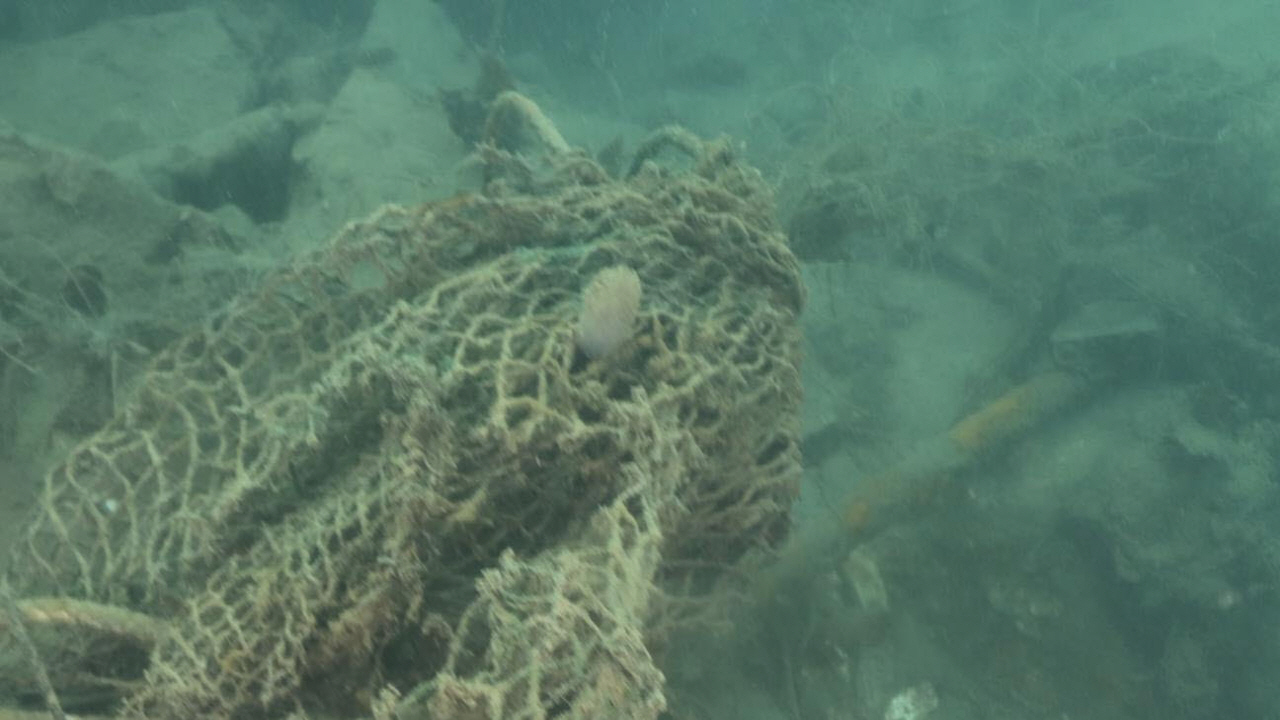fish net: (0, 164, 808, 720)
